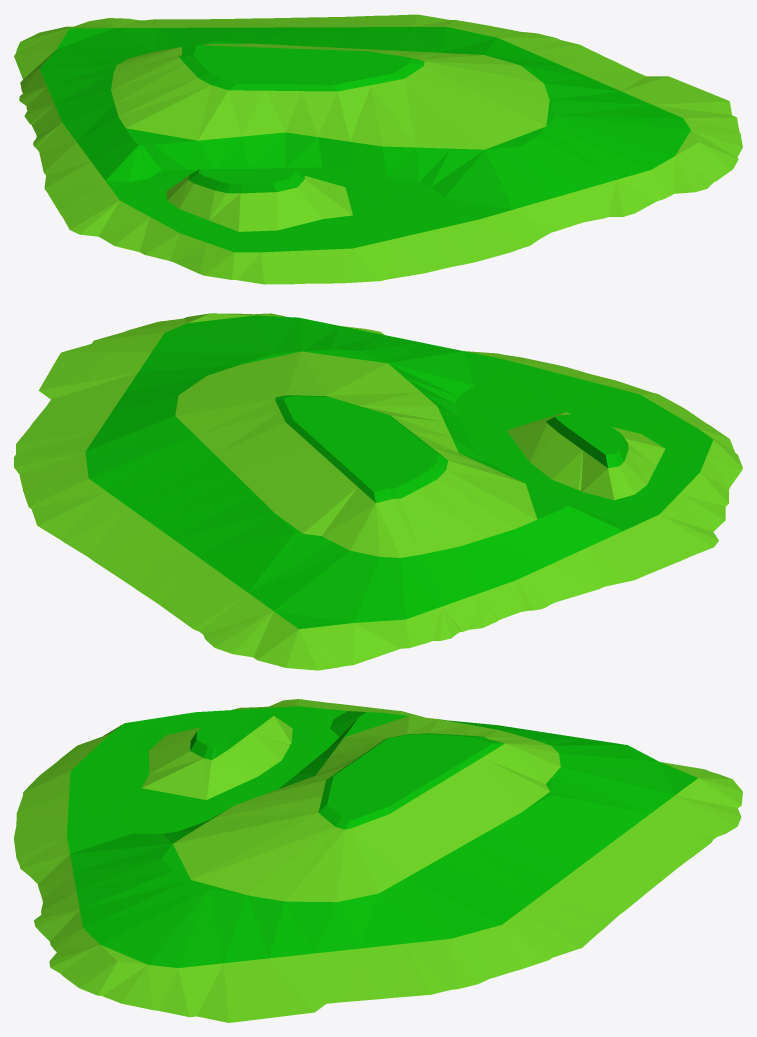
The model's file is Grass_Hill.fbx.
3 views of the same model, one above another, from view 1: azimuth 30°, elevation 25°; view 2: azimuth 150°, elevation 25°; view 3: azimuth 270°, elevation 25° (orthographic). The views are drawn at different scales.
Visible parts, largest first — view 1: Terrain_Verdant_Grass_Hill_01.001, Terrain_Verdant_Grass_Hill_01; view 2: Terrain_Verdant_Grass_Hill_01.001, Terrain_Verdant_Grass_Hill_01; view 3: Terrain_Verdant_Grass_Hill_01.001, Terrain_Verdant_Grass_Hill_01.
Part boxes in pixels (bbox=[...]): Terrain_Verdant_Grass_Hill_01.001: bbox=[14, 14, 742, 284]; Terrain_Verdant_Grass_Hill_01: bbox=[39, 27, 690, 252]; Terrain_Verdant_Grass_Hill_01.001: bbox=[14, 313, 742, 670]; Terrain_Verdant_Grass_Hill_01: bbox=[85, 315, 713, 629]; Terrain_Verdant_Grass_Hill_01.001: bbox=[14, 699, 742, 1022]; Terrain_Verdant_Grass_Hill_01: bbox=[66, 706, 697, 967].
Size of the model in its own units: 7102 by 698 by 6753.
